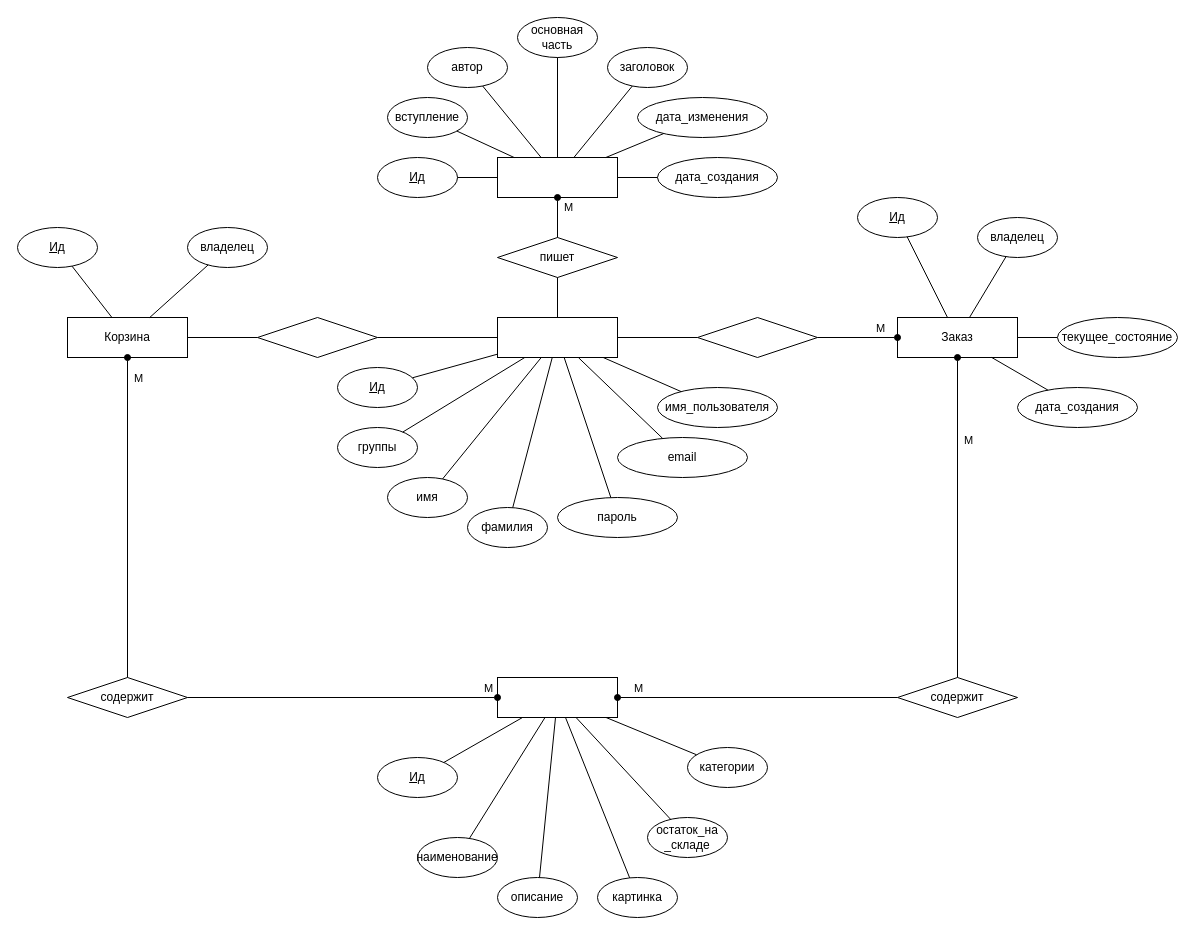
The diagram is 1195 pixels wide and 935 high, and some of its shapes have lost their labels. The shapes that lost their labels are listed below. From the top down, each one's box as (x1, y1, x2, y2) in pixels, then its label:
(496, 156, 618, 198): Запись блога
(256, 316, 378, 358): формирует
(496, 316, 618, 358): Пользователь
(696, 316, 818, 358): оформляет
(496, 676, 618, 718): Товар
